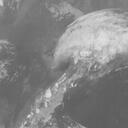cyclone: (37, 43, 105, 106)
